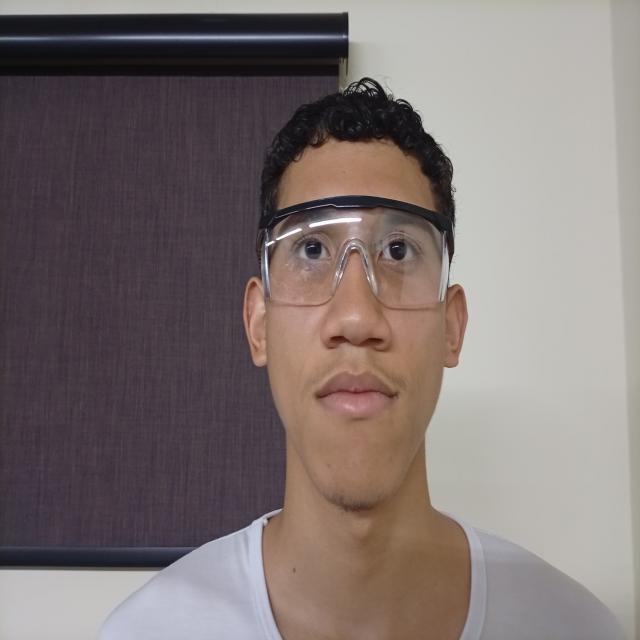oculos-epi: (256, 198, 454, 309)
